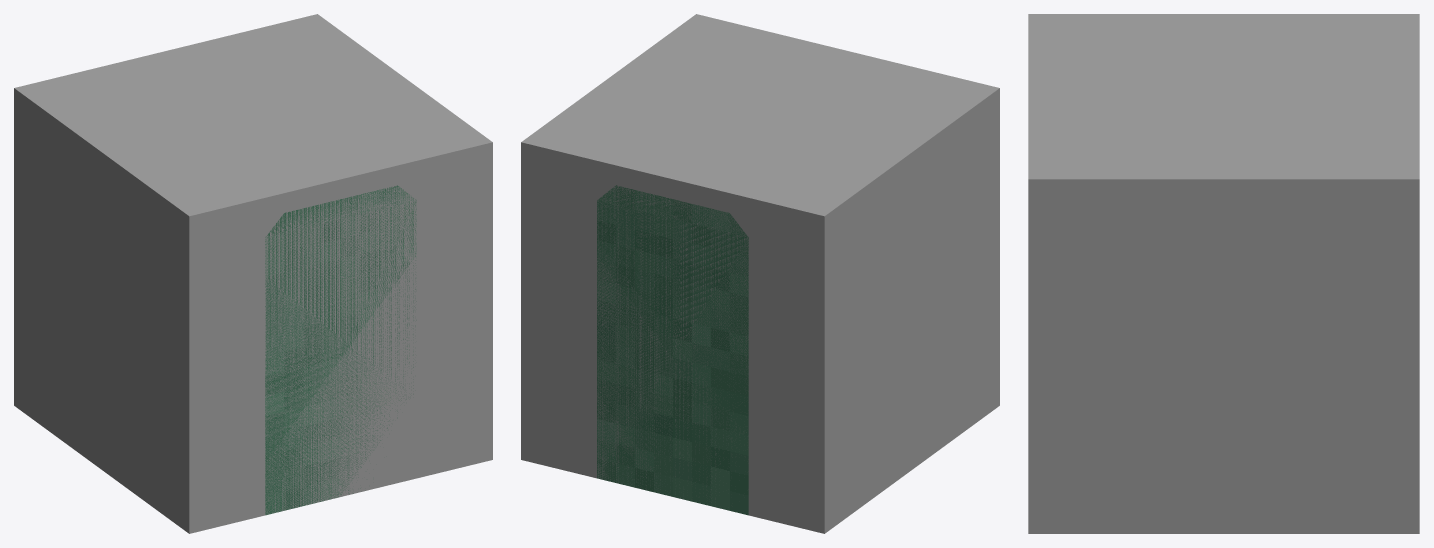
File: maceratora.obj
The picture shows the model from 3 angles, left to right: view 1: azimuth 30°, elevation 25°; view 2: azimuth 150°, elevation 25°; view 3: azimuth 270°, elevation 25°; orthographic projection. The views are drawn at different scales.
Parts seen in each view (by area): view 1: Minecraft_Block_Cube, main; view 2: Minecraft_Block_Cube, main; view 3: Minecraft_Block_Cube.
Boxes of the visible parts, x1,y1,x2,y2 form: Minecraft_Block_Cube: (14,14,492,533); main: (265,185,416,515); Minecraft_Block_Cube: (521,14,999,533); main: (597,185,748,515); Minecraft_Block_Cube: (1028,14,1419,533).
Bounding box in the file's own units: 1 × 1 × 1.
2 materials, 1 textured.
